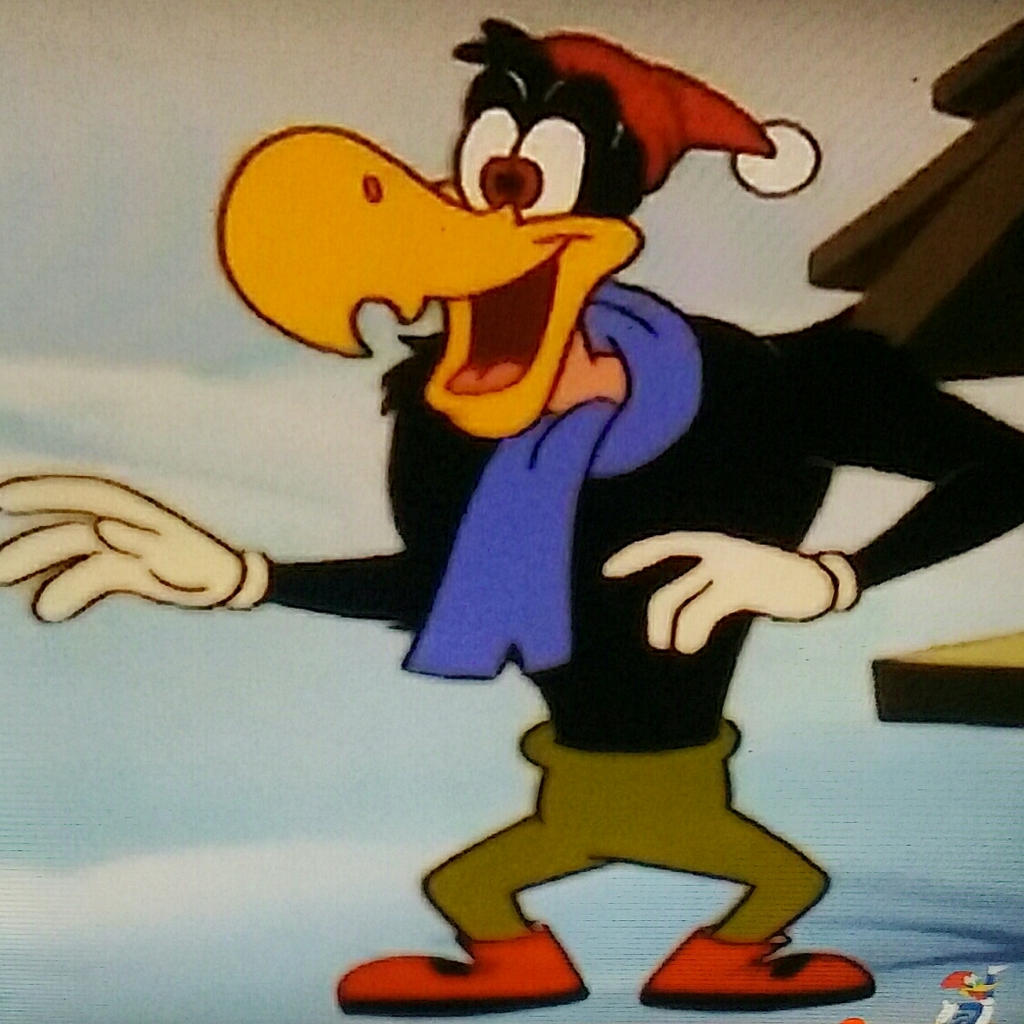urubu: (13, 22, 947, 1019)
